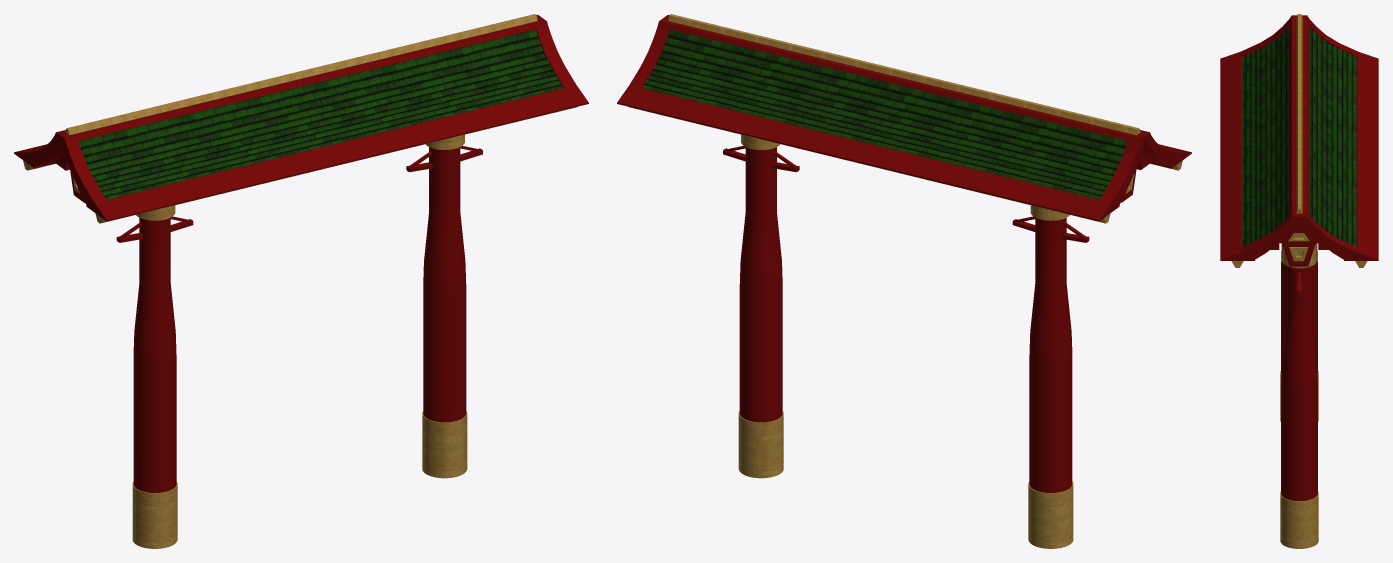
The model's file is FBXgATE.fbx.
3 renders of one model, left to right at view 1: azimuth 30°, elevation 25°; view 2: azimuth 150°, elevation 25°; view 3: azimuth 270°, elevation 25°, orthographic. The views are drawn at different scales.
Visible parts, largest first — view 1: Gate; view 2: Gate; view 3: Gate.
Boxes of the visible parts, bbox=[...] form: Gate: bbox=[14, 14, 588, 548]; Gate: bbox=[617, 14, 1191, 548]; Gate: bbox=[1220, 14, 1378, 548].
Size of the model in its own units: 8.58 by 7.35 by 2.86.
Materials: 3 (2 with a texture image).
